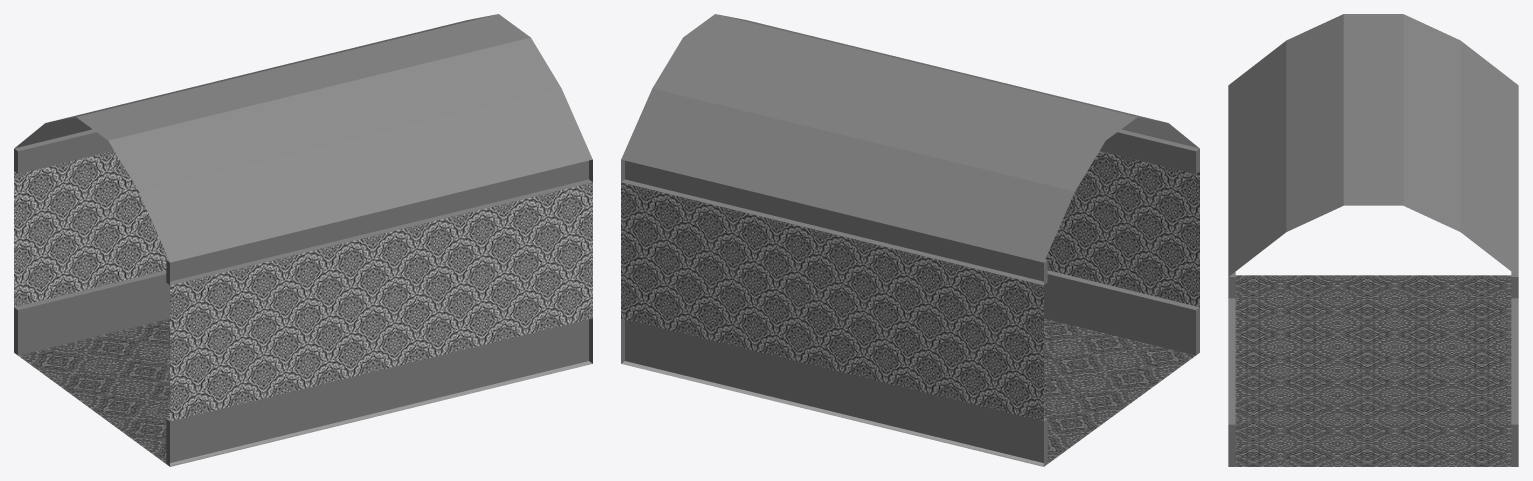
Rendered from Hallway_Plain.fbx.
3 renders of one model, left to right at view 1: azimuth 30°, elevation 25°; view 2: azimuth 150°, elevation 25°; view 3: azimuth 270°, elevation 25°, orthographic. The views are drawn at different scales.
Visible parts, largest first — view 1: Hallway_Plain; view 2: Hallway_Plain; view 3: Hallway_Plain.
Boxes of the visible parts, <box> form: Hallway_Plain: <box>14,14,592,466</box>; Hallway_Plain: <box>621,14,1199,466</box>; Hallway_Plain: <box>1228,14,1518,466</box>.
Size of the model in its own units: 9.38 by 5.96 by 6.
4 materials, 2 textured.
